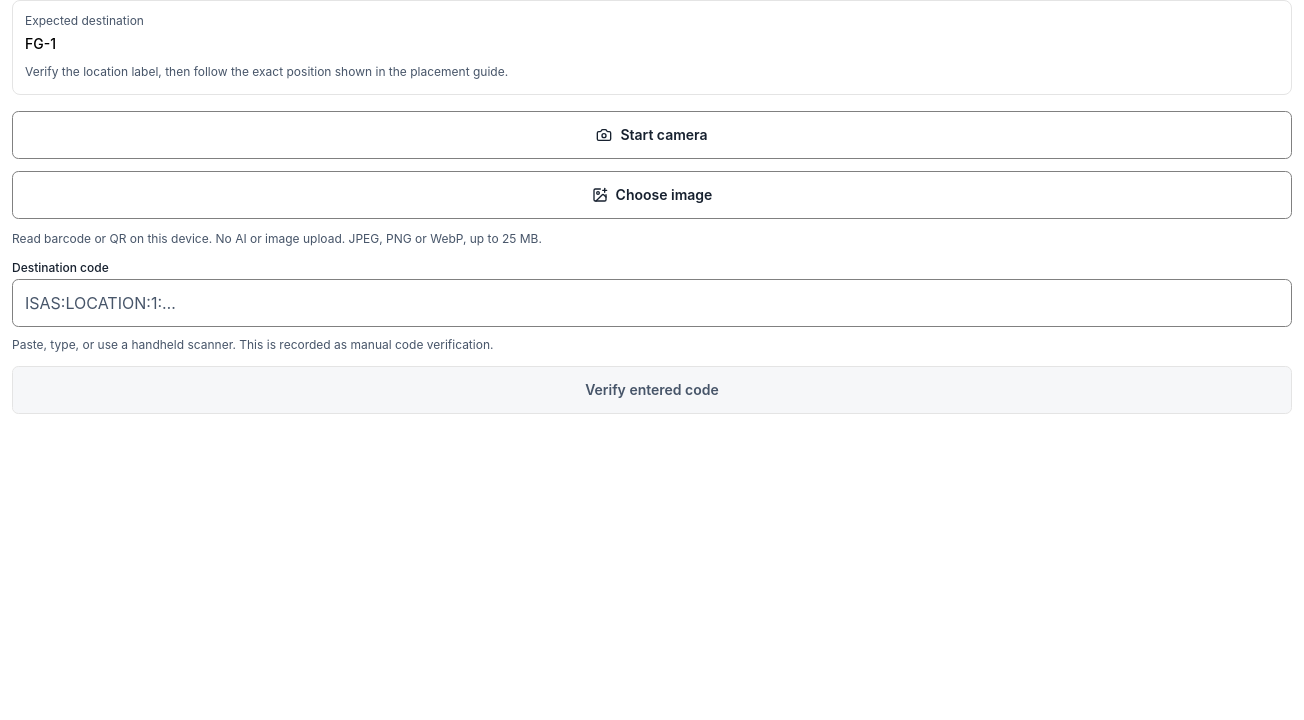
Test case: DestinationScanner › keeps manual entry and retry available when camera permission fails
Click the button "Start camera" at point(652, 134), box left=12, top=110, right=1292, bottom=158
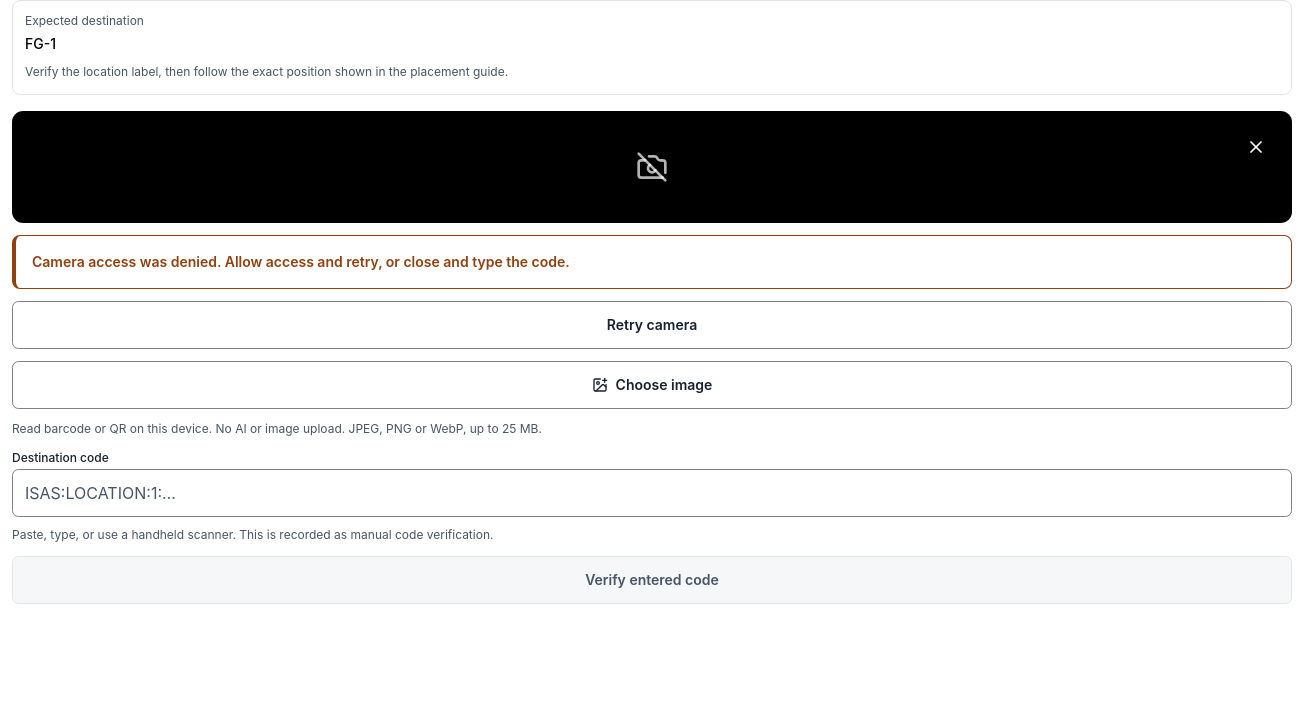
Expected: the field labelled "Destination code" is enabled, left=12, top=468, right=1292, bottom=516
Expected: the message shows "Camera access was denied", left=32, top=252, right=570, bottom=270
Expected: the button "Retry camera" is enabled, left=12, top=300, right=1292, bottom=348
